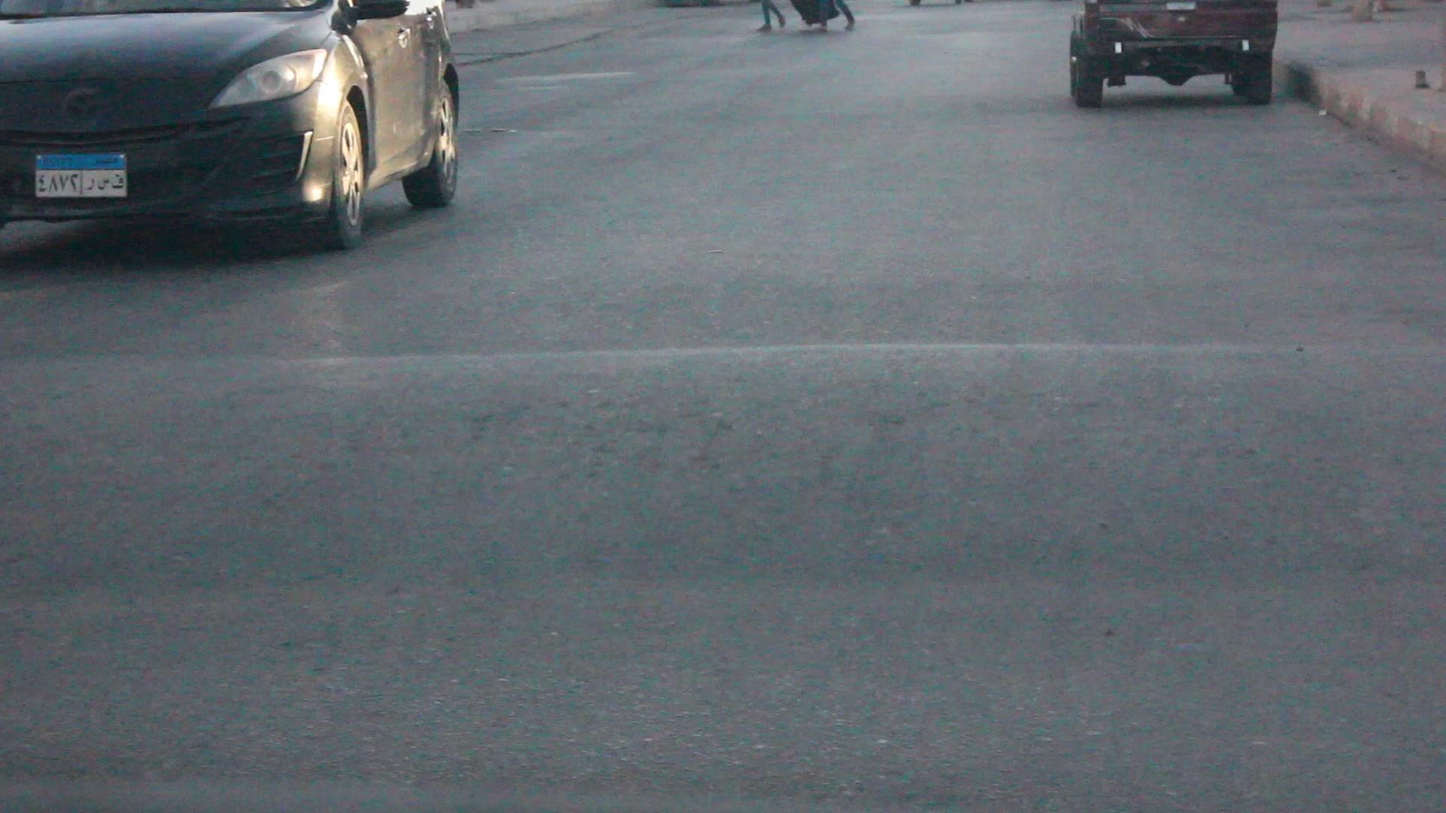Bump: (6, 350, 1446, 608)
